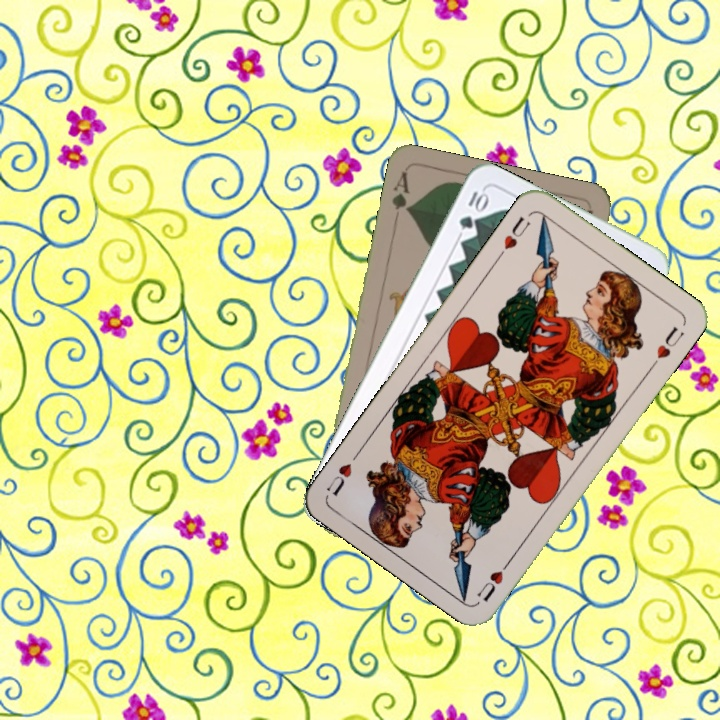G10: (454, 187, 490, 232)
GA: (387, 168, 413, 217)
HU: (473, 554, 515, 604), (494, 212, 534, 261)
